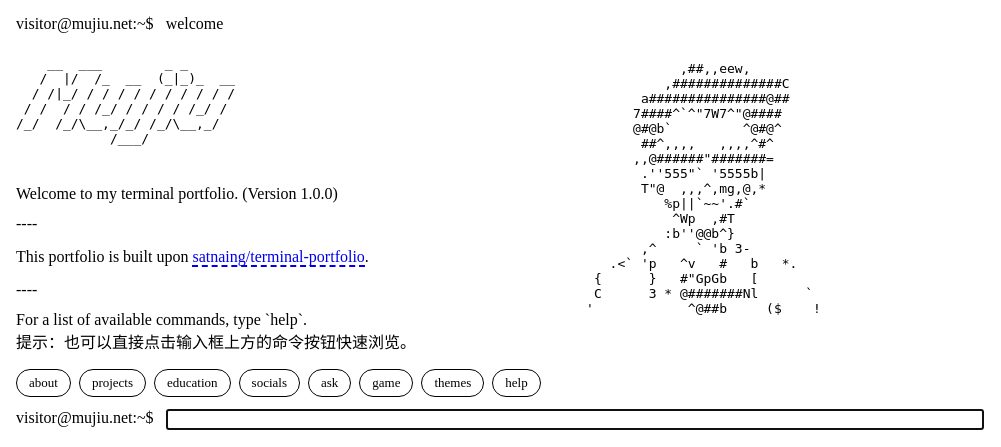
Scenario: Terminal Component › Input Commands › should render Welcome component when user type 'welcome' cmd
The width and height of the screenshot is (1001, 447).
Type "clear" into the field titled "terminal-input" at (575, 420), box [166, 409, 984, 430]
Then press Enter
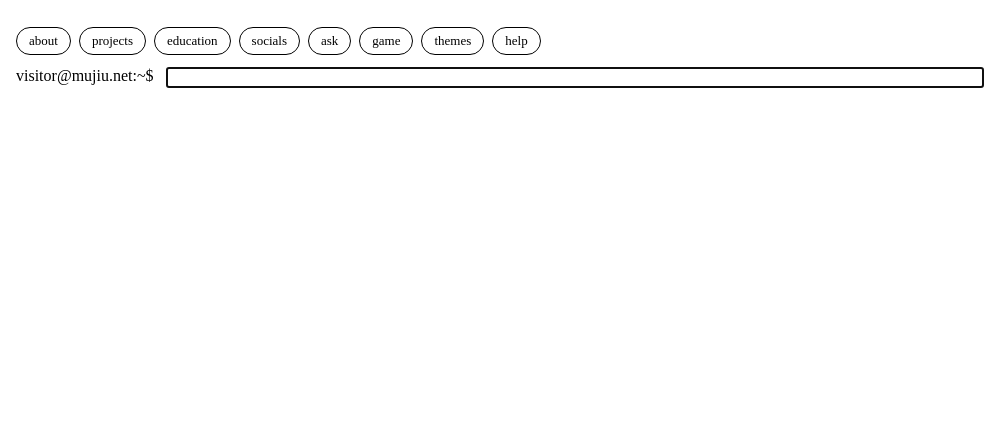
Type "welcome" into the field titled "terminal-input" at (575, 78), box [166, 67, 984, 88]
Then press Enter
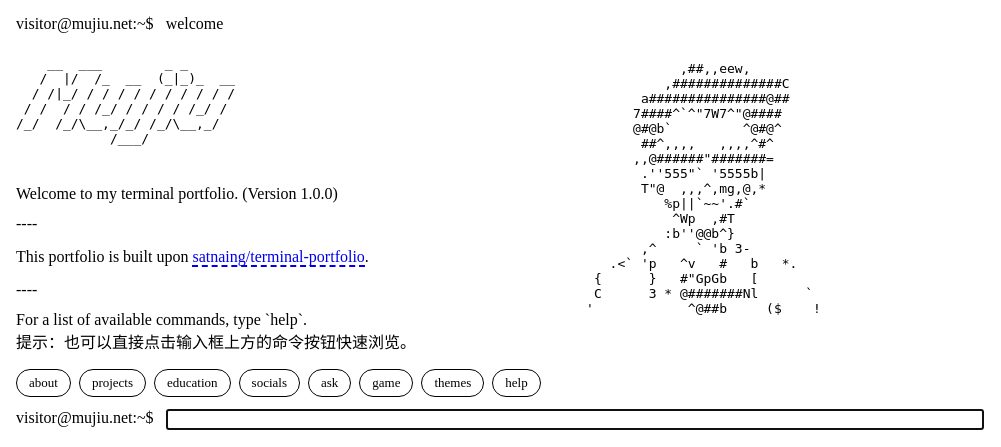
expect the element with test id "welcome" is shown: met, box [16, 41, 821, 351]
